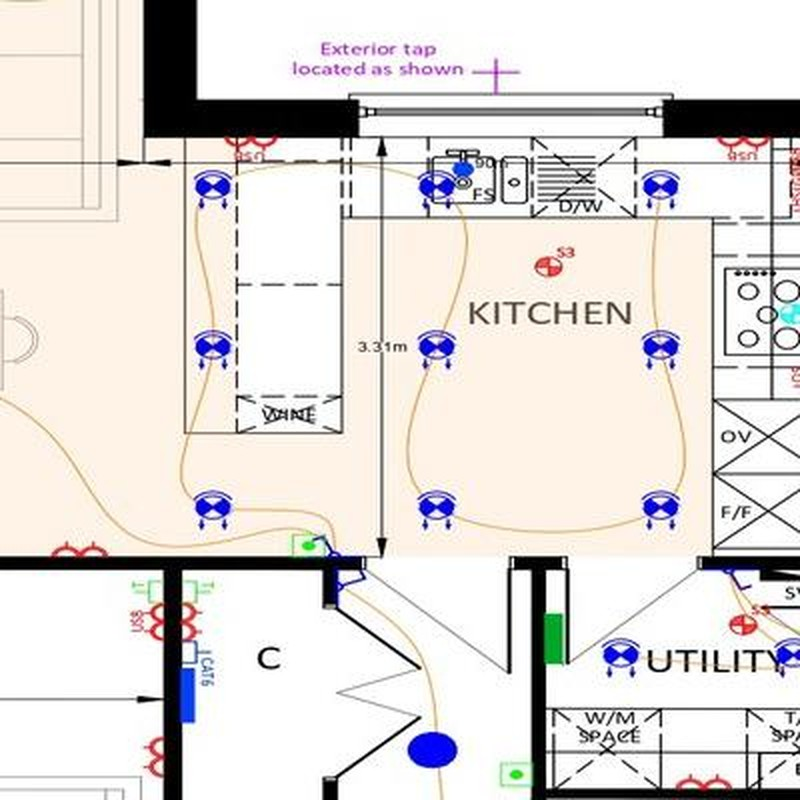Cat 6 Data Socket: (182, 640, 217, 687)
Ceiling Mounted Continuous Extract FanWith Boost Mode Activated By Light Switch: (781, 304, 800, 323)
Ceiling Mounted Continuous Extract FanWith Local Boost Switch: (534, 246, 575, 277), (729, 605, 771, 635)
Double Socket: (52, 541, 108, 557), (676, 773, 732, 789), (142, 737, 163, 778), (181, 603, 202, 640)
Light Switch: (314, 535, 345, 558), (339, 570, 366, 595), (723, 570, 753, 590)
Low Energy Downlighter: (641, 490, 680, 531), (601, 638, 640, 678), (417, 490, 457, 529), (642, 169, 680, 210), (194, 491, 233, 530), (194, 330, 232, 370), (418, 330, 456, 370), (642, 330, 680, 370), (194, 170, 232, 208), (418, 170, 455, 208), (776, 638, 800, 679)
Low Energy Pendant Light: (408, 731, 457, 769)
Outside Tap: (473, 58, 520, 93)
Programmable Room Thermostat: (501, 762, 532, 786), (293, 534, 324, 557)
Radiator: (544, 614, 563, 664)
Telephone Socket: (131, 579, 163, 604), (182, 579, 214, 603)
Twin LED Strip Light: (181, 668, 196, 723)
USB Double Socket: (223, 137, 277, 161), (717, 137, 769, 161), (130, 605, 164, 641)
